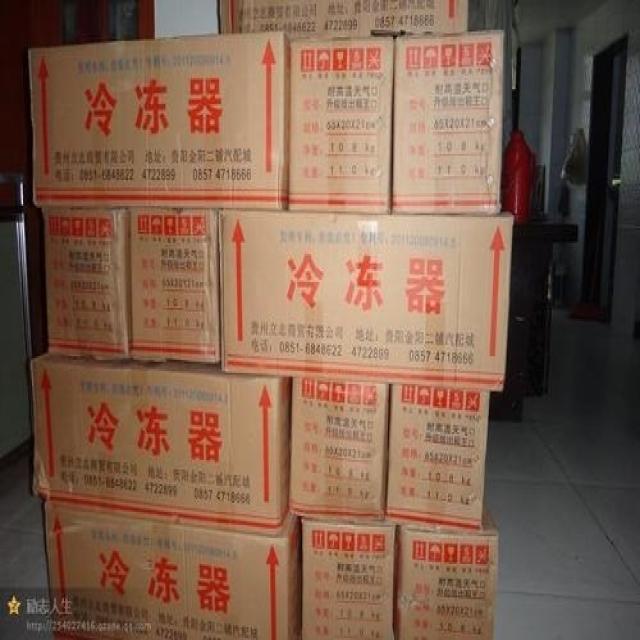box: (219, 207, 512, 390), (27, 27, 291, 207), (32, 354, 292, 530), (44, 496, 303, 638), (392, 31, 506, 215), (289, 35, 394, 213), (385, 386, 490, 531), (395, 496, 500, 638), (289, 378, 391, 521), (41, 204, 132, 360), (130, 206, 219, 362), (300, 514, 396, 638), (218, 1, 469, 38)
